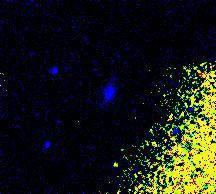star: (99, 150, 129, 180)
